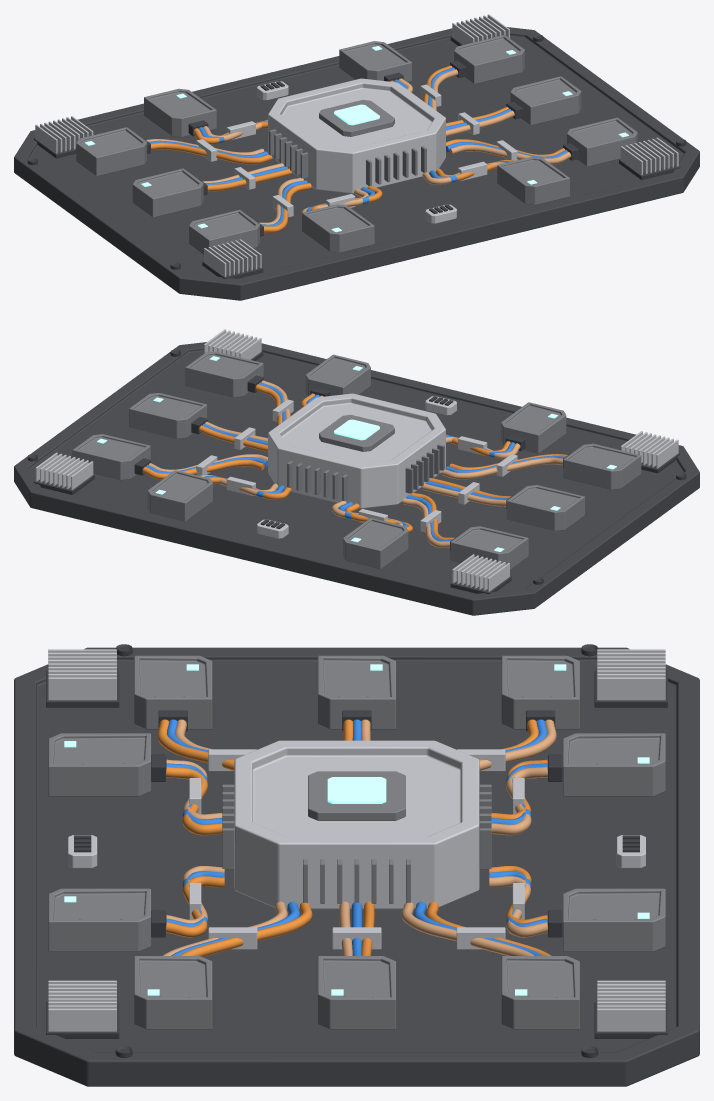
File: placabase_04.glb
3 renders of one model, top to bottom at view 1: azimuth 30°, elevation 25°; view 2: azimuth 150°, elevation 25°; view 3: azimuth 270°, elevation 25°, orthographic. The views are drawn at different scales.
Visible parts, largest first — view 1: Placa_base_glb, Nucleo_base_glb, Modulo_caja.009_glb, Modulo_caja.008_glb, Modulo_caja.001_glb, Modulo_caja.002_glb, Modulo_caja.004_glb, Modulo_caja.005_glb, Modulo_caja.006_glb, Modulo_caja.003_glb, Modulo_caja.007_glb, Modulo_caja_glb (+12 smaller); view 2: Placa_base_glb, Nucleo_base_glb, Modulo_caja.001_glb, Modulo_caja_glb, Modulo_caja.003_glb, Modulo_caja.004_glb, Modulo_caja.007_glb, Modulo_caja.006_glb, Modulo_caja.005_glb, Modulo_caja.002_glb, Modulo_caja.008_glb, Modulo_caja.009_glb (+12 smaller); view 3: Placa_base_glb, Nucleo_base_glb, Modulo_caja.006_glb, Modulo_caja.009_glb, Modulo_caja.007_glb, Modulo_caja.008_glb, Modulo_caja.004_glb, Modulo_caja.003_glb, Modulo_caja.005_glb, Modulo_caja.001_glb, Modulo_caja.002_glb, Modulo_caja_glb (+26 smaller).
Part boxes in pixels (left/top/right/bottom): Placa_base_glb: left=14, top=27, right=699, bottom=300; Nucleo_base_glb: left=268, top=78, right=445, bottom=193; Modulo_caja.009_glb: left=497, top=156, right=569, bottom=205; Modulo_caja.008_glb: left=302, top=204, right=374, bottom=252; Modulo_caja.001_glb: left=132, top=168, right=203, bottom=217; Modulo_caja.002_glb: left=76, top=127, right=146, bottom=176; Modulo_caja.004_glb: left=510, top=76, right=581, bottom=125; Modulo_caja.005_glb: left=454, top=35, right=524, bottom=84; Modulo_caja.006_glb: left=144, top=88, right=216, bottom=137; Modulo_caja.003_glb: left=567, top=117, right=637, bottom=166; Modulo_caja.007_glb: left=339, top=41, right=411, bottom=82; Modulo_caja_glb: left=189, top=209, right=259, bottom=254; Placa_base_glb: left=14, top=342, right=699, bottom=615; Nucleo_base_glb: left=268, top=393, right=445, bottom=508; Modulo_caja.001_glb: left=506, top=485, right=584, bottom=530; Modulo_caja_glb: left=563, top=443, right=641, bottom=489; Modulo_caja.003_glb: left=185, top=351, right=263, bottom=397; Modulo_caja.004_glb: left=129, top=393, right=207, bottom=438; Modulo_caja.007_glb: left=147, top=470, right=212, bottom=521; Modulo_caja.006_glb: left=343, top=518, right=408, bottom=569; Modulo_caja.005_glb: left=72, top=434, right=150, bottom=480; Modulo_caja.002_glb: left=450, top=526, right=528, bottom=569; Modulo_caja.008_glb: left=501, top=402, right=566, bottom=453; Modulo_caja.009_glb: left=305, top=354, right=370, bottom=396; Placa_base_glb: left=14, top=647, right=699, bottom=1086; Nucleo_base_glb: left=234, top=740, right=479, bottom=909; Modulo_caja.006_glb: left=562, top=733, right=665, bottom=796; Modulo_caja.009_glb: left=48, top=888, right=151, bottom=951; Modulo_caja.007_glb: left=562, top=888, right=665, bottom=951; Modulo_caja.008_glb: left=48, top=733, right=151, bottom=796; Modulo_caja.004_glb: left=317, top=956, right=396, bottom=1029; Modulo_caja.003_glb: left=134, top=956, right=212, bottom=1029; Modulo_caja.005_glb: left=501, top=956, right=579, bottom=1029; Modulo_caja.001_glb: left=317, top=655, right=396, bottom=729; Modulo_caja.002_glb: left=501, top=655, right=579, bottom=729; Modulo_caja_glb: left=134, top=655, right=212, bottom=729.
Size of the model in its own units: 4 by 0.41 by 2.8.
